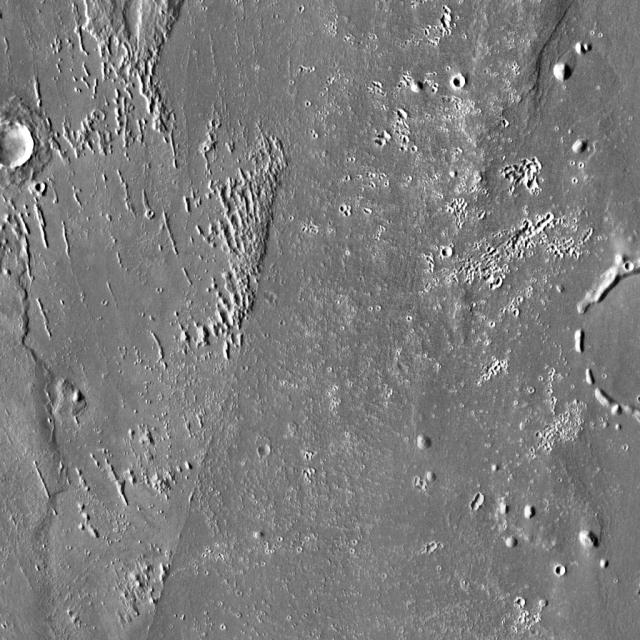crater: (0, 124, 38, 169), (476, 498, 490, 511), (447, 249, 458, 260), (479, 495, 490, 506), (459, 78, 470, 88), (264, 447, 274, 458), (562, 569, 572, 579), (402, 110, 412, 120), (386, 134, 396, 144), (630, 262, 639, 272), (532, 181, 542, 190), (40, 186, 49, 194), (522, 602, 530, 610), (542, 222, 550, 230), (476, 504, 484, 512), (376, 132, 383, 140), (441, 15, 448, 22), (545, 207, 552, 214), (494, 272, 501, 279), (526, 157, 532, 164), (401, 132, 408, 138), (429, 538, 436, 544), (338, 200, 344, 206), (512, 304, 518, 310), (489, 278, 495, 284), (426, 540, 432, 546), (478, 208, 483, 214)
